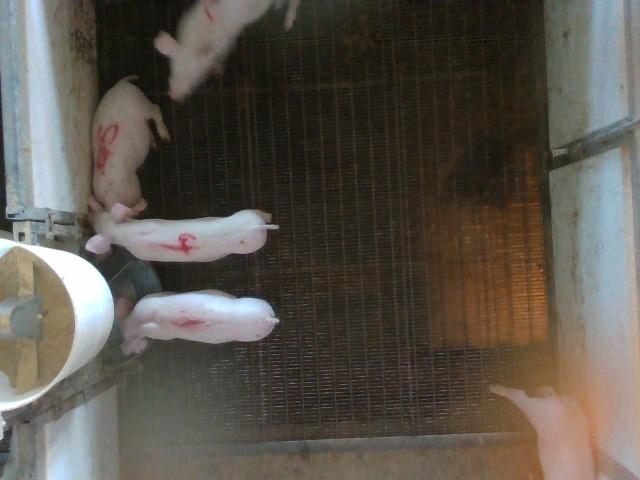pig-1: (115, 290, 279, 355)
pig-4: (86, 195, 279, 262)
pig-5: (92, 76, 170, 211)
